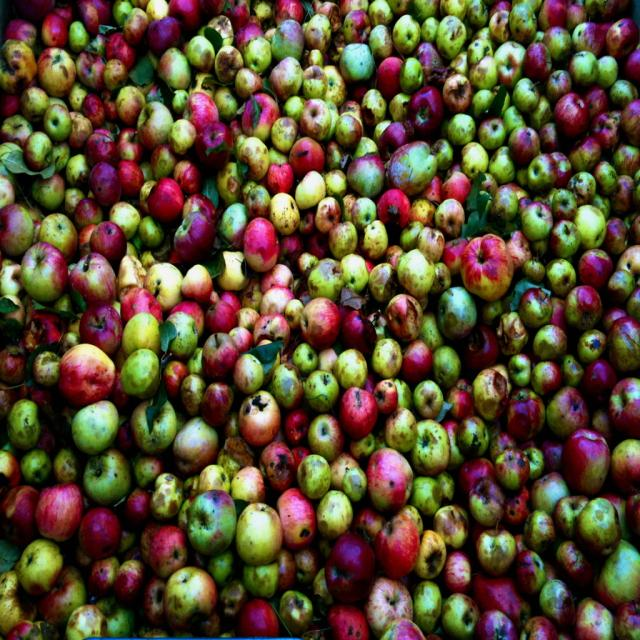Healty Apple: (0, 0, 639, 639), (364, 459, 418, 520)
